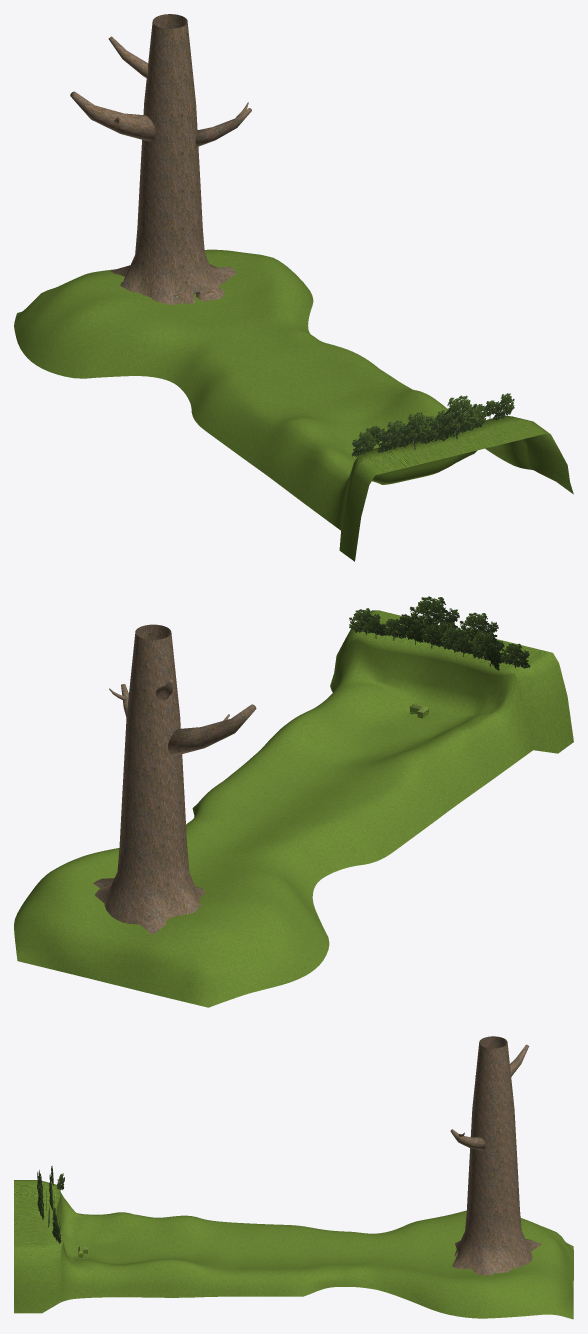
The model's file is Level01.obj.
3 views of the same model, one above another, from view 1: azimuth 30°, elevation 25°; view 2: azimuth 150°, elevation 25°; view 3: azimuth 270°, elevation 25° (orthographic). The views are drawn at different scales.
Parts seen in each view (by area): view 1: Plane, Cylinder.001, Cylinder.002, tree.011, tree.009, Cylinder.004; view 2: Plane, Cylinder.001, Cylinder.002, tree.011, tree.009, tree.014, tree.012; view 3: Plane, Cylinder.001.
Boxes of the visible parts, x1,y1,x2,y2 form: Plane: (14, 249, 573, 561); Cylinder.001: (110, 14, 236, 304); Cylinder.002: (70, 91, 155, 141); tree.011: (435, 395, 478, 441); tree.009: (398, 412, 430, 449); Cylinder.004: (195, 108, 251, 146); Plane: (14, 610, 573, 1007); Cylinder.001: (93, 624, 204, 934); Cylinder.002: (168, 704, 256, 755); tree.011: (410, 596, 459, 640); tree.009: (459, 612, 498, 644); tree.014: (468, 631, 504, 663); tree.012: (500, 643, 530, 668); Plane: (14, 1180, 573, 1319); Cylinder.001: (452, 1036, 541, 1275).
Size of what is drawn, in the model's own units: 103 by 112 by 232.
